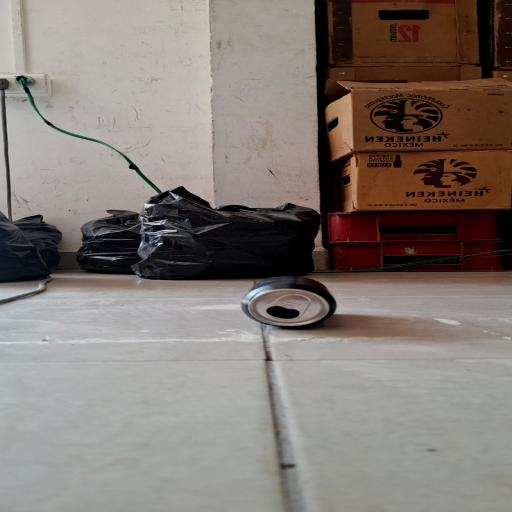LATA: (216, 272, 352, 334)
